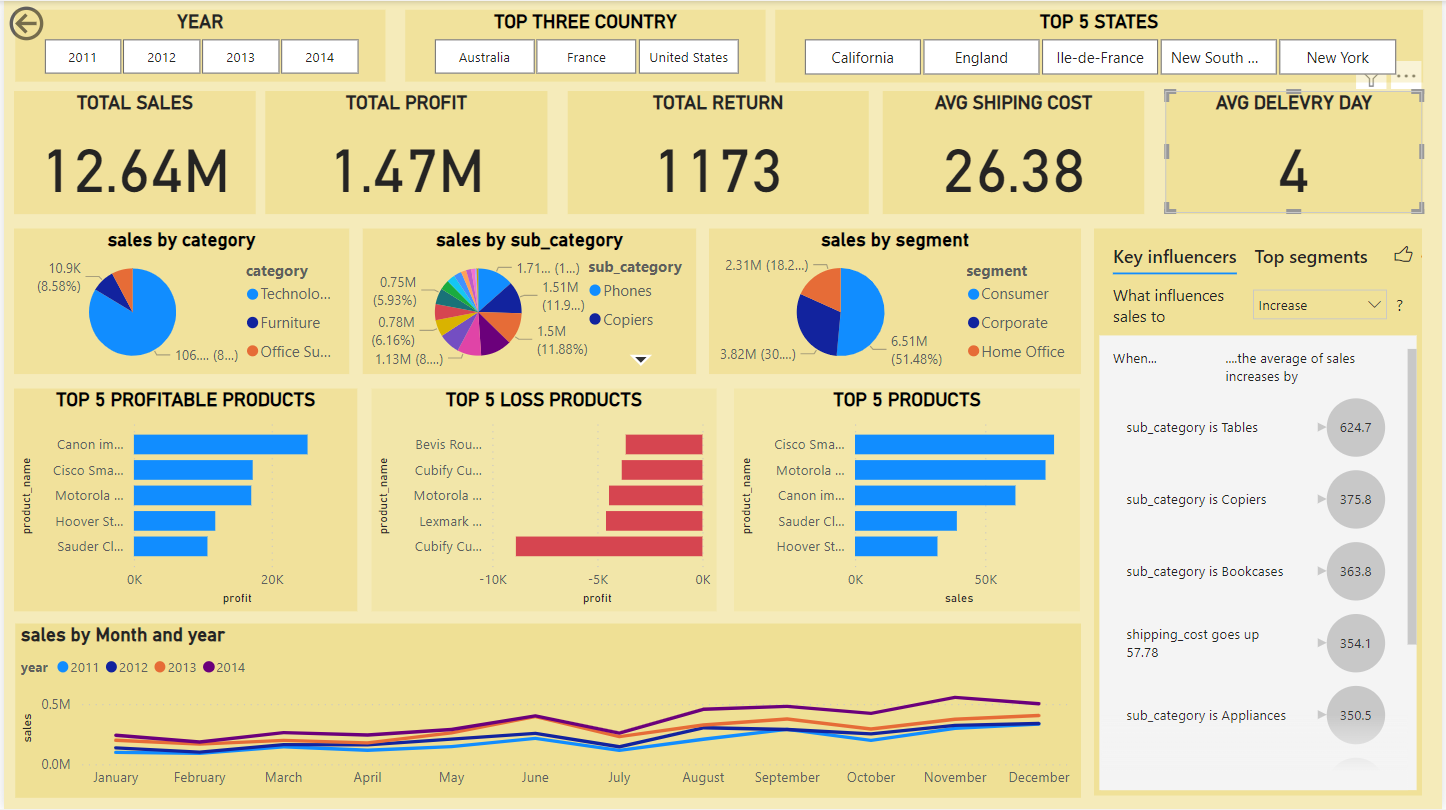

Layout of this report page (visuals, bound fields, positions):
{"tool":"powerbi","page":{"name":"Page 1","canvas":[1280,720],"ordinal":0},"visuals":[{"type":"card","title":"TOTAL SALES","fields":{"Values":["Sum(Orders.sales)"]},"box":[9.3,80.3,215.3,109.4],"z":0},{"type":"card","title":"AVG DELEVRY DAY","fields":{"Values":["Avg(Orders.dilevery day)"]},"box":[1033.3,80.3,229.2,109.4],"z":1000},{"type":"barChart","title":"TOP 5 PROFITABLE PRODUCTS","fields":{"Category":["Orders.product_name"],"Y":["Sum(Orders.profit)"]},"box":[8.6,344.7,305.6,198],"z":2000},{"type":"actionButton","box":[0,0,100,40],"z":3000},{"type":"slicer","title":"YEAR","fields":{"Values":["Orders.year"]},"box":[9.6,7.2,329.2,63.9],"z":4000},{"type":"slicer","title":"TOP THREE COUNTRY","fields":{"Values":["Orders.country"]},"box":[357,7.2,320.8,63.9],"z":5000},{"type":"pieChart","fields":{"Y":["Sum(Orders.sales)"],"Category":["Orders.category"]},"box":[8.6,202.9,298.3,129.6],"z":6000},{"type":"slicer","title":"TOP 5 STATES","fields":{"Values":["Orders.state"]},"box":[686.6,7.8,576.4,64.5],"z":7000},{"type":"card","title":"TOTAL RETURN","fields":{"Values":["CountNonNull(Returns.Returned)"]},"box":[501.5,80.3,267.6,109.4],"z":8000},{"type":"card","title":"TOTAL PROFIT","fields":{"Values":["Sum(Orders.profit)"]},"box":[232.7,80.3,251.3,109.4],"z":9000},{"type":"card","title":"AVG SHIPING COST","fields":{"Values":["Avg(Orders.shipping_cost)"]},"box":[782,80.3,232.7,109.4],"z":10000},{"type":"pieChart","fields":{"Category":["Orders.sub_category"],"Y":["Sum(Orders.sales)"]},"box":[319,202.9,297,129.6],"z":11000},{"type":"pieChart","fields":{"Y":["Sum(Orders.sales)"],"Category":["Orders.segment"]},"box":[627.1,202.9,331.3,129.6],"z":12000},{"type":"barChart","title":"TOP 5 LOSS PRODUCTS","fields":{"Category":["Orders.product_name"],"Y":["Sum(Orders.profit)"]},"box":[327.6,344.7,306.8,198],"z":13000},{"type":"lineChart","fields":{"Y":["Sum(Orders.sales)"],"Category":["Orders.order_date.Variation.Date Hierarchy.Month"],"Series":["Orders.year"]},"box":[9.8,553.8,948.6,155.2],"z":14000},{"type":"barChart","title":"TOP 5 PRODUCTS","fields":{"Category":["Orders.product_name"],"Y":["Sum(Orders.sales)"]},"box":[650.3,344.7,308,198],"z":15000},{"type":"keyDriversVisual","fields":{"Target":["Orders.sales"],"ExplainBy":["Orders.category","Orders.country","Orders.customer_name","Sum(Orders.dilevery day)","Sum(Orders.discount)","Orders.product_name","Orders.order_id","Orders.segment","Sum(Orders.shipping_cost)","Orders.state","Orders.sub_category","Sum(Orders.year)"]},"box":[970.6,202.9,292.2,504.9],"z":16000}]}

Visuals, with their boxes in screenshot pixels (x1, y1, x2, y2), scaled from the page's 1280x720 canvas onto the 1446x810 screenshot:
"TOTAL SALES" card: <region>11, 90, 254, 213</region>
"AVG DELEVRY DAY" card: <region>1167, 90, 1426, 213</region>
"TOP 5 PROFITABLE PRODUCTS" barChart: <region>10, 388, 355, 611</region>
actionButton: <region>0, 0, 113, 45</region>
"YEAR" slicer: <region>11, 8, 383, 80</region>
"TOP THREE COUNTRY" slicer: <region>403, 8, 766, 80</region>
pieChart - Sum(Orders.sales) x Orders.category: <region>10, 228, 347, 374</region>
"TOP 5 STATES" slicer: <region>776, 9, 1427, 81</region>
"TOTAL RETURN" card: <region>567, 90, 869, 213</region>
"TOTAL PROFIT" card: <region>263, 90, 547, 213</region>
"AVG SHIPING COST" card: <region>883, 90, 1146, 213</region>
pieChart - Orders.sub_category x Sum(Orders.sales): <region>360, 228, 696, 374</region>
pieChart - Sum(Orders.sales) x Orders.segment: <region>708, 228, 1083, 374</region>
"TOP 5 LOSS PRODUCTS" barChart: <region>370, 388, 717, 611</region>
lineChart - Sum(Orders.sales) x Orders.order_date.Variation.Date Hierarchy.Month: <region>11, 623, 1083, 798</region>
"TOP 5 PRODUCTS" barChart: <region>735, 388, 1083, 611</region>
keyDriversVisual - Orders.sales x Orders.category: <region>1096, 228, 1427, 796</region>
